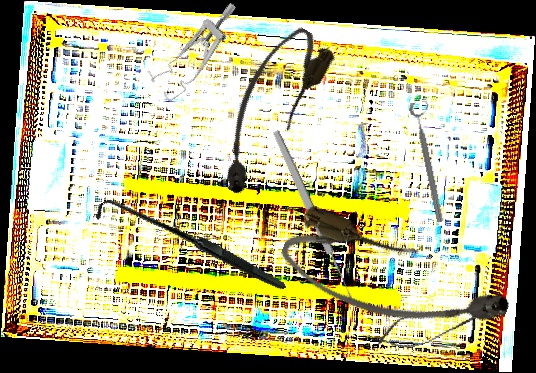Cannula: (272, 200, 517, 361), (196, 18, 340, 202)
Fixation Ring: (408, 99, 454, 224)
Hook Surgical: (91, 148, 287, 347)
Micro Scissor: (371, 290, 507, 357)
Speculum: (140, 1, 259, 104)
Surgical Spoon: (270, 128, 359, 309)
